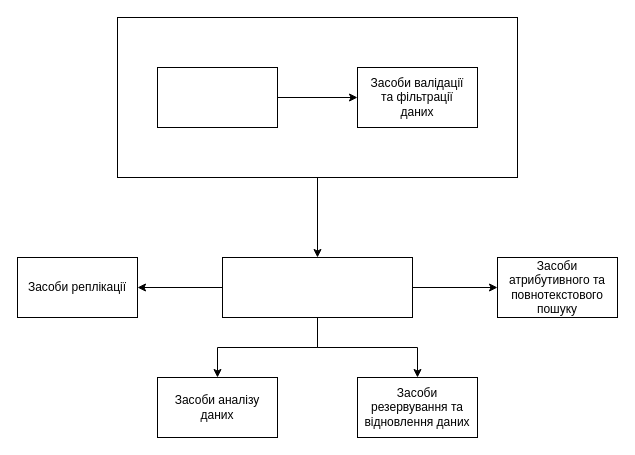
This 635x455 diagram has some shape labels left out. Here are the shapes that lost their labels. From the top down, the box of each, then its label:
(156, 66, 278, 128): Засоби генерації даних
(116, 16, 518, 178): Підсистема попередньої обробки
(222, 256, 412, 318): База даних системи
